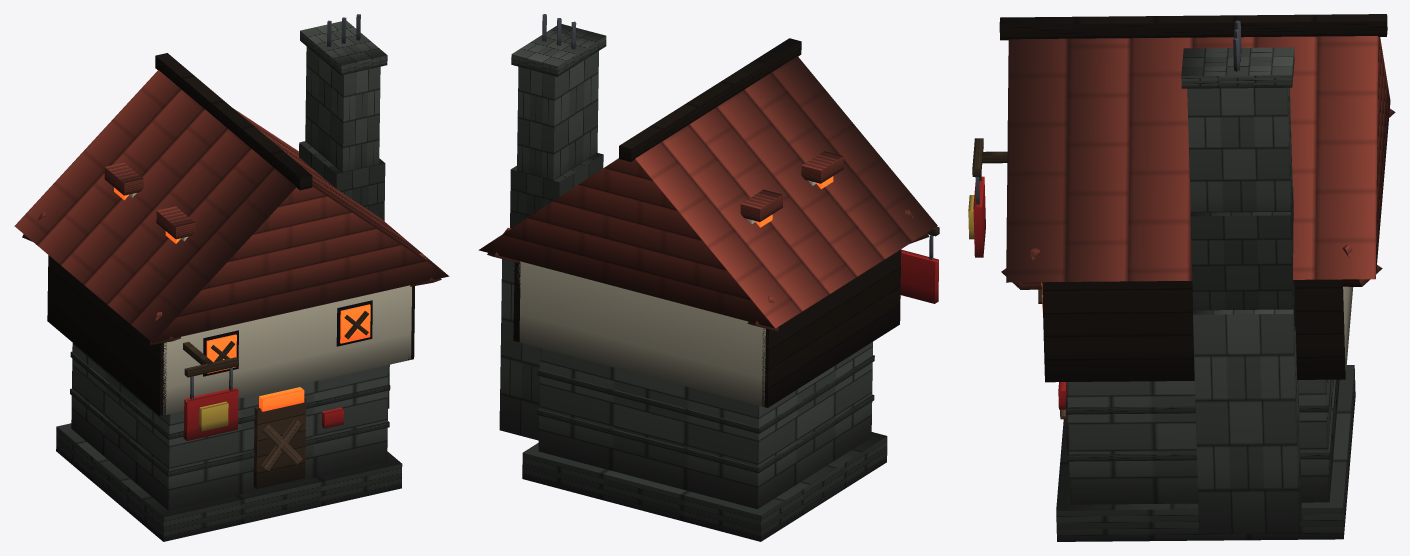
The model's file is tavern.fbx.
3 views of the same model, side by side, from view 1: azimuth 30°, elevation 25°; view 2: azimuth 150°, elevation 25°; view 3: azimuth 270°, elevation 25° (orthographic). The views are drawn at different scales.
Visible parts, largest first — view 1: tavern; view 2: tavern; view 3: tavern.
Part boxes in pixels (x1,y1,x2,y2): tavern: (14,14,449,541); tavern: (478,14,939,541); tavern: (968,14,1395,541).
Bounding box in the file's own units: 260 × 332 × 247.
1 material, 1 textured.
